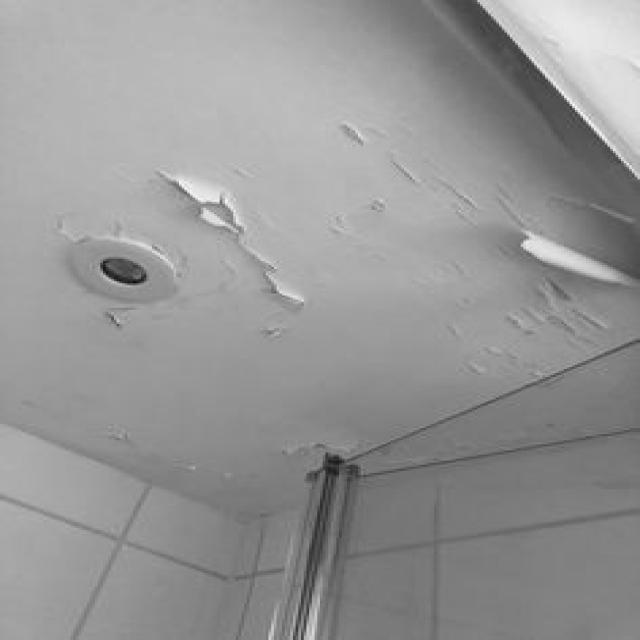peeling paint: (32, 82, 634, 508)
